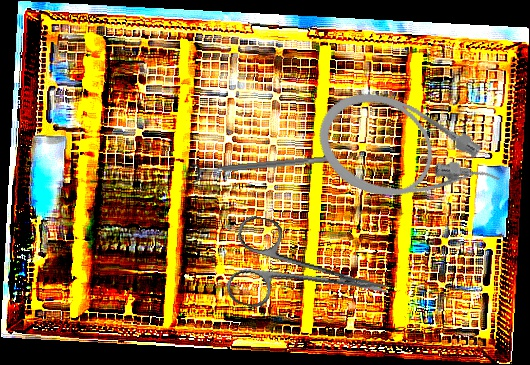Cannula: (303, 76, 513, 238)
Fixation Ring: (189, 147, 334, 185)
Iris Scissors: (223, 213, 398, 336)
